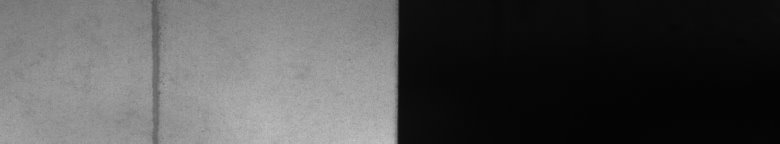hd: (147, 4, 168, 136)
